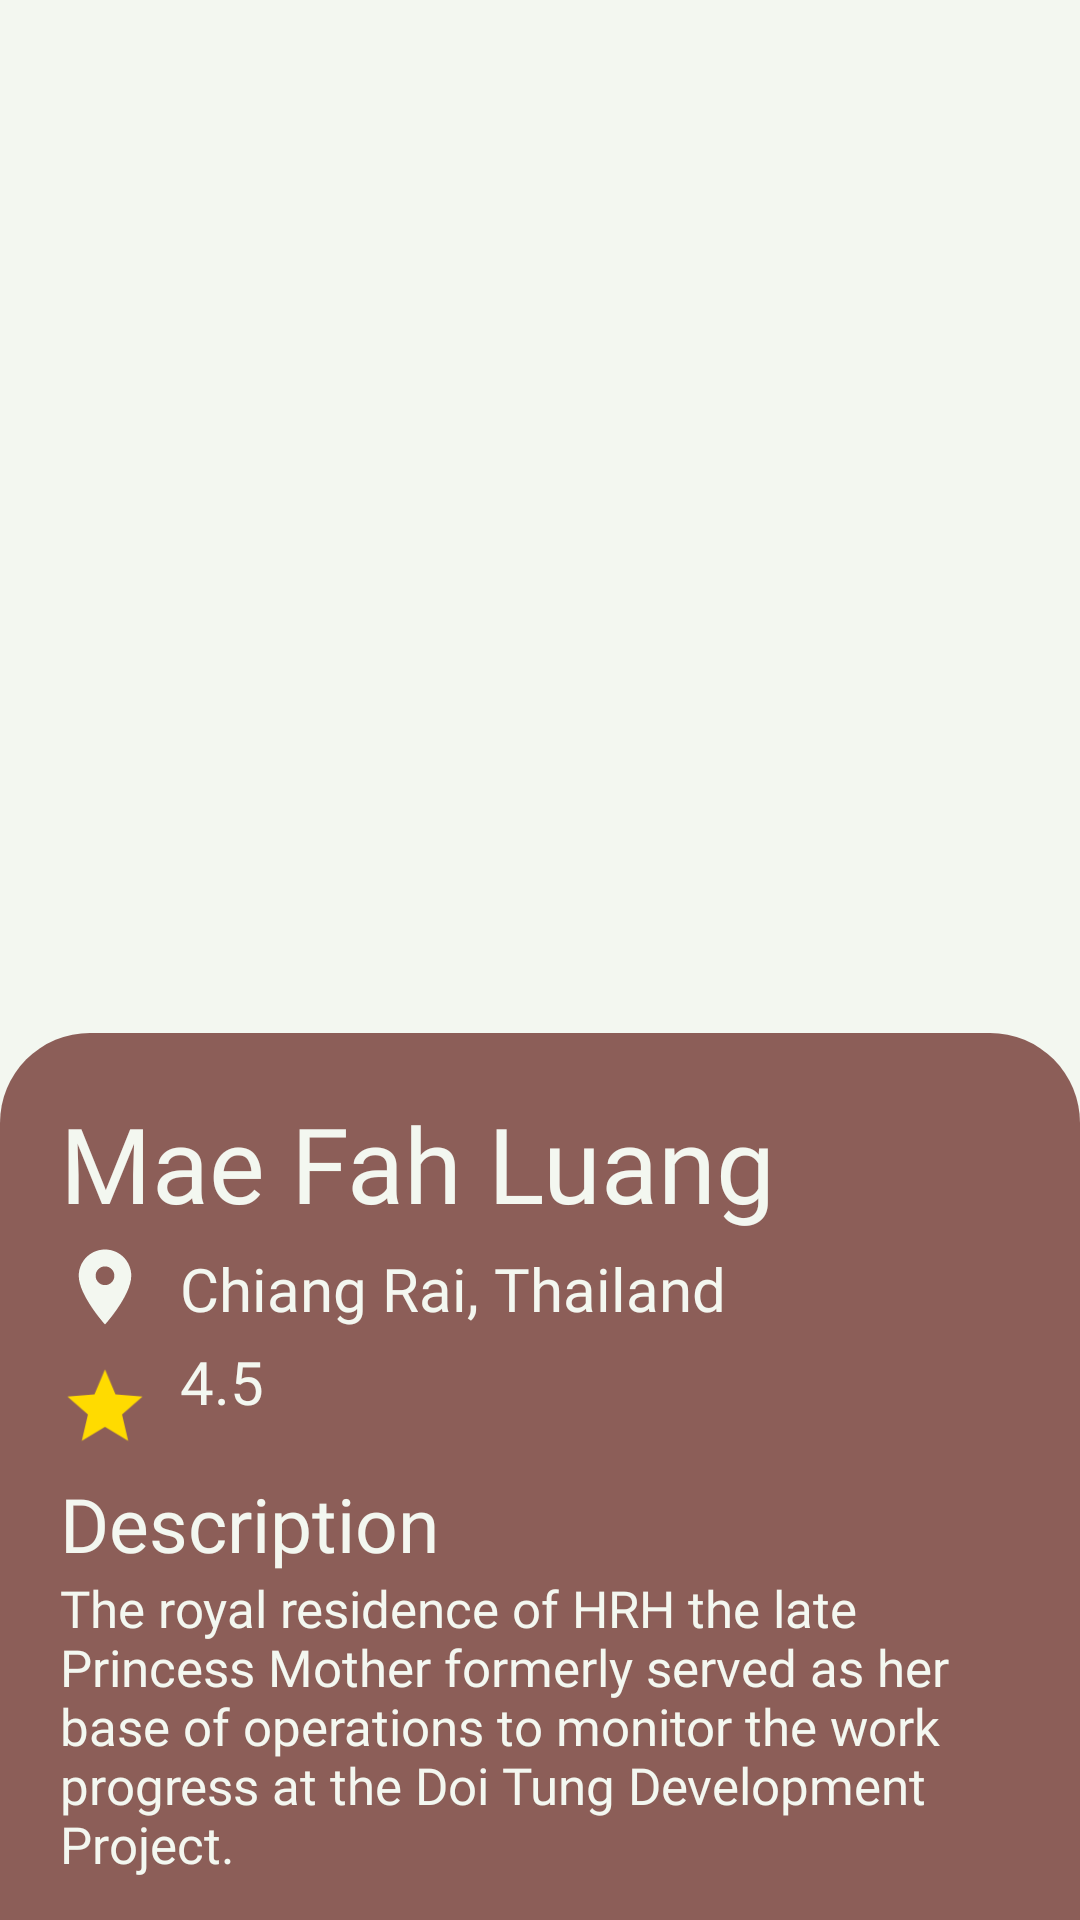

Point at icon controls on the screen. Image size 1080×1920, points as (x=x, y=y).
location icon: (x=105, y=1286)
star icon: (x=105, y=1405)
